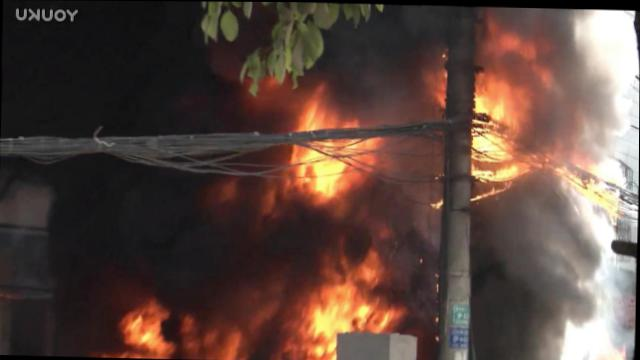fire: (307, 284, 340, 359), (476, 74, 532, 114), (339, 294, 395, 332), (124, 301, 169, 348), (298, 85, 332, 131), (308, 154, 344, 196), (472, 131, 515, 161), (320, 135, 381, 154), (362, 250, 382, 284), (433, 68, 449, 108), (340, 265, 358, 296), (290, 142, 320, 160), (290, 162, 308, 187), (495, 164, 521, 181), (595, 188, 614, 209), (470, 165, 494, 179), (582, 183, 598, 199), (497, 186, 507, 190), (475, 194, 482, 199), (482, 192, 490, 196), (491, 186, 495, 193)
